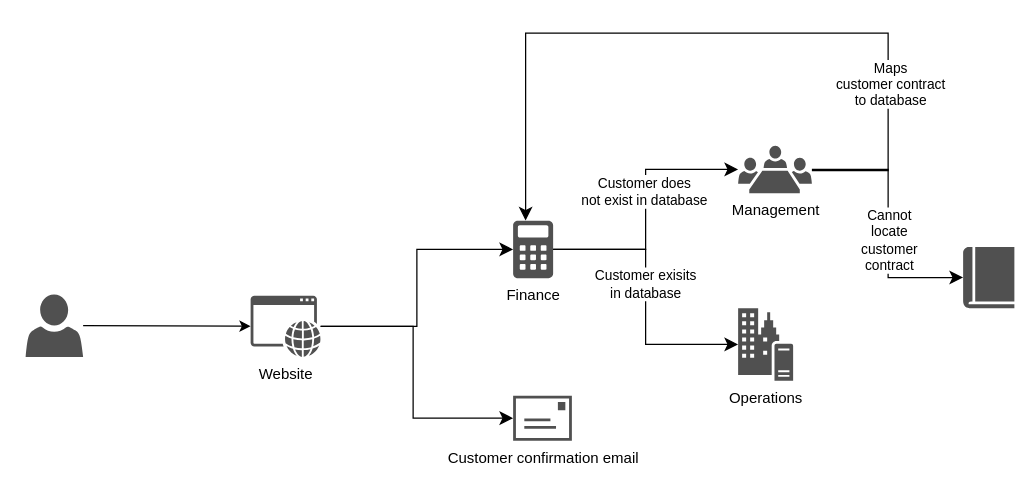
Some shapes in this 1035 by 489 pixel diagram are drawn without their labels. Each missing label, with the box of its shape:
Customer: (25, 294, 82, 356)
Legal: (962, 246, 1014, 308)
